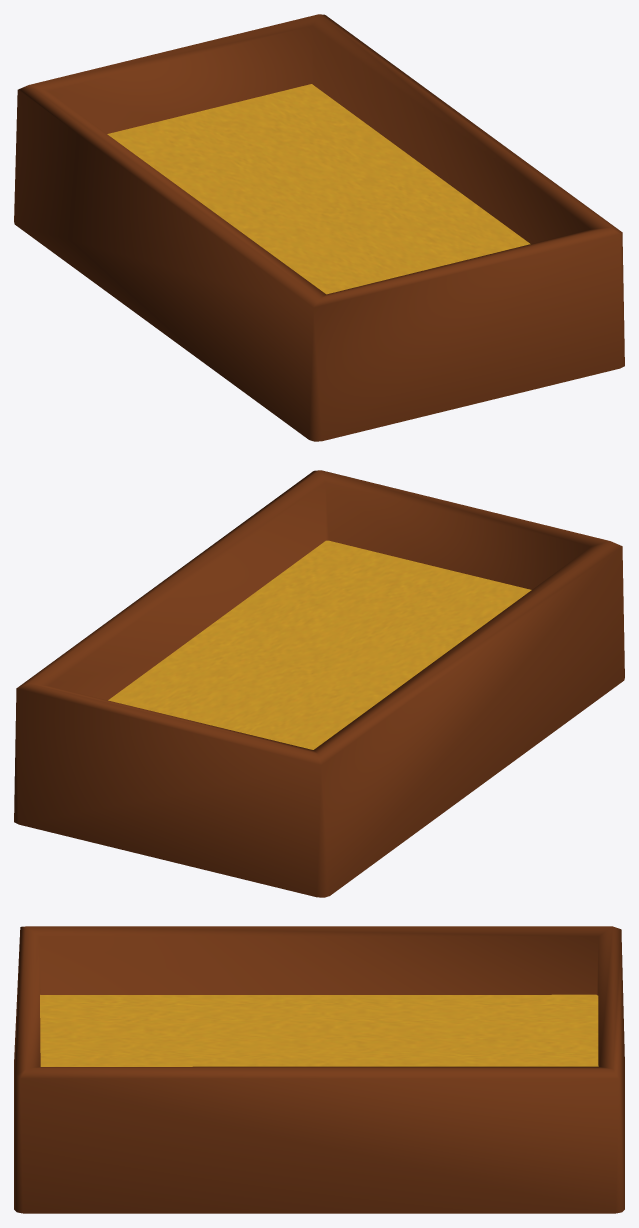
Rendered from HarvestRooms@Feeder.fbx.
The picture shows the model from 3 angles, top to bottom: view 1: azimuth 30°, elevation 25°; view 2: azimuth 150°, elevation 25°; view 3: azimuth 270°, elevation 25°; orthographic projection.
Parts seen in each view (by area): view 1: Feeder; view 2: Feeder; view 3: Feeder.
Boxes of the visible parts, left/top/right/bottom form: Feeder: left=14, top=14, right=624, bottom=441; Feeder: left=14, top=470, right=624, bottom=897; Feeder: left=14, top=926, right=624, bottom=1213.
Size of the model in its own units: 32.92 by 13.75 by 54.92.
Materials: 2 (1 with a texture image).
